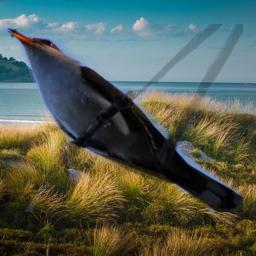Cuckoo: (2, 24, 243, 212)
